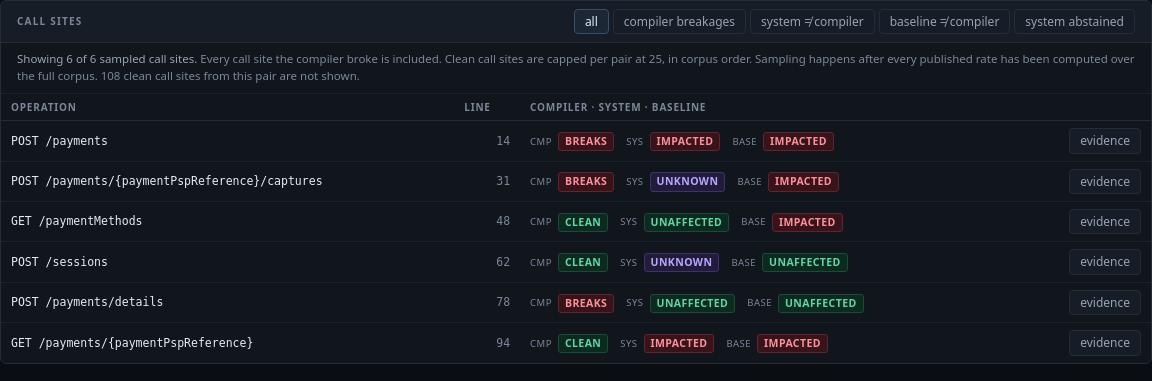
CallsiteTable filters › filters to the rows where the system disagrees with the compiler
Click the button "system ≠ compiler" at (812, 22), box [750, 9, 875, 34]
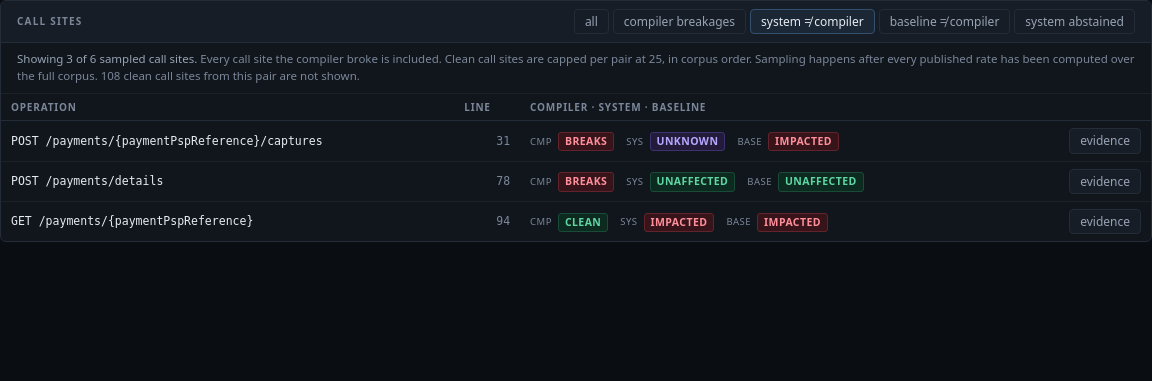
Result: the text with test id "row-count" shows "Showing 3 of 6" at [17, 51, 197, 66]
